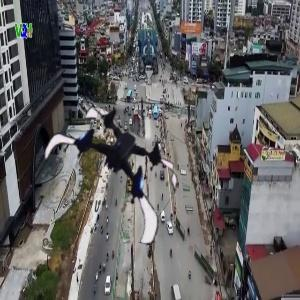drone: (42, 93, 185, 236)
